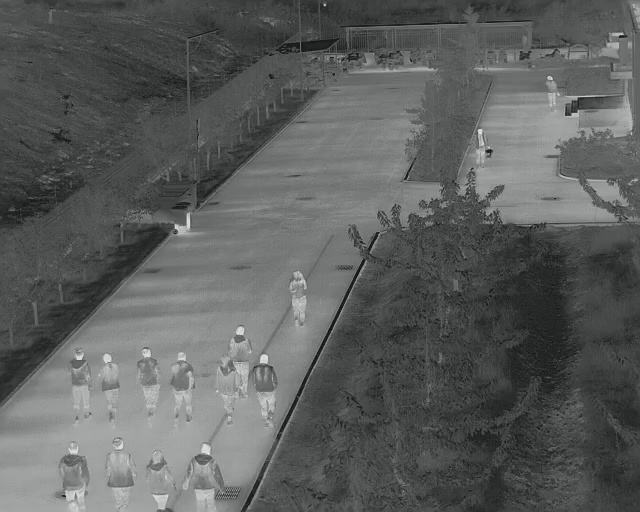person: (58, 443, 95, 509), (185, 442, 220, 511), (135, 344, 162, 426), (252, 355, 279, 430), (68, 348, 95, 422), (107, 439, 135, 509), (171, 351, 196, 427), (215, 355, 241, 425), (146, 451, 176, 511), (99, 353, 122, 425), (287, 269, 310, 328), (473, 125, 492, 168), (543, 74, 561, 112)
